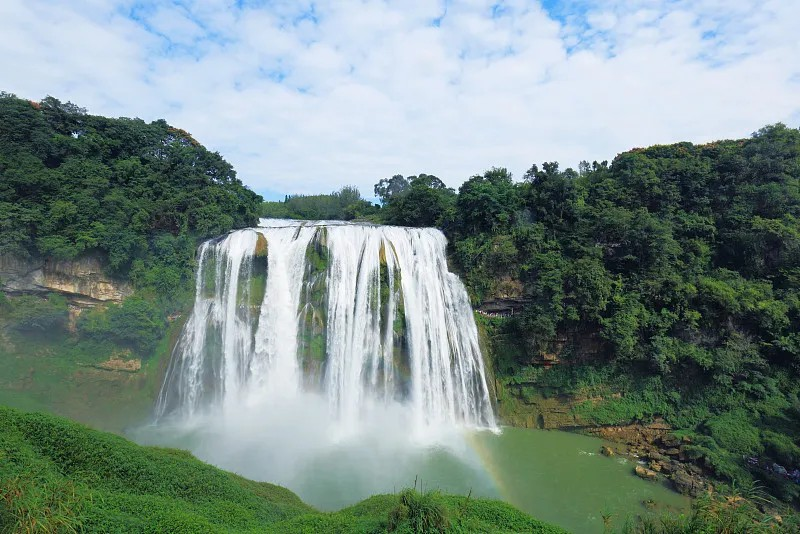Huangguoshu: (167, 220, 498, 430)
